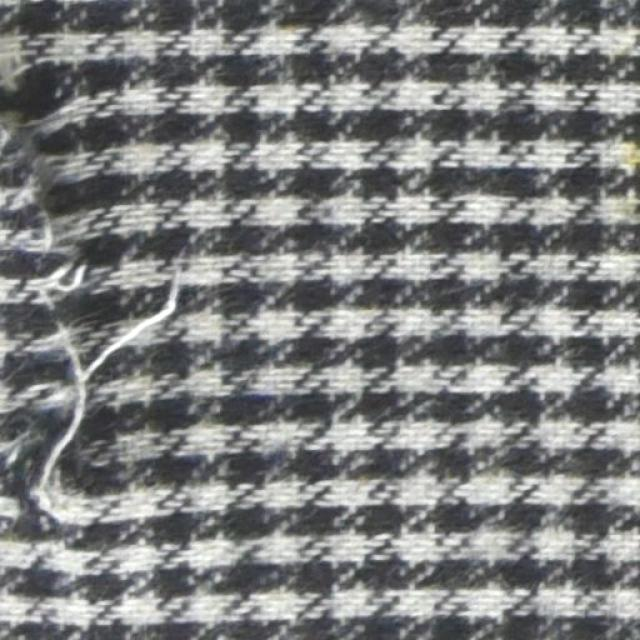Snag: (0, 93, 201, 550)
